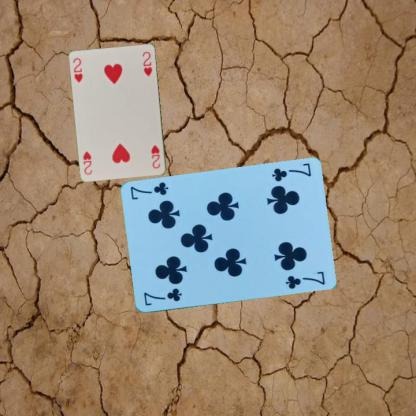2h: (71, 55, 84, 84), (149, 142, 161, 170)
7c: (269, 161, 312, 183), (141, 286, 183, 307)
